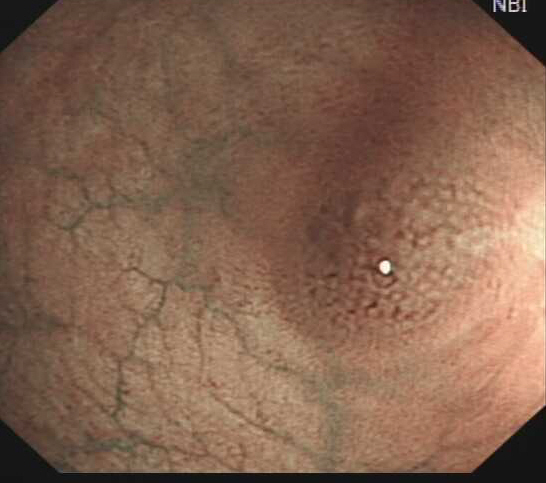adenoma: (296, 143, 497, 335)
